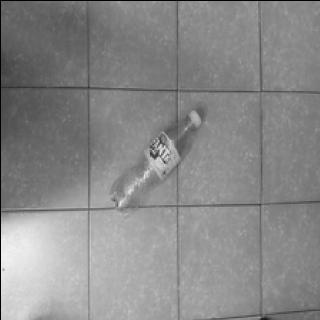plastic_bottles: (106, 107, 206, 213)
